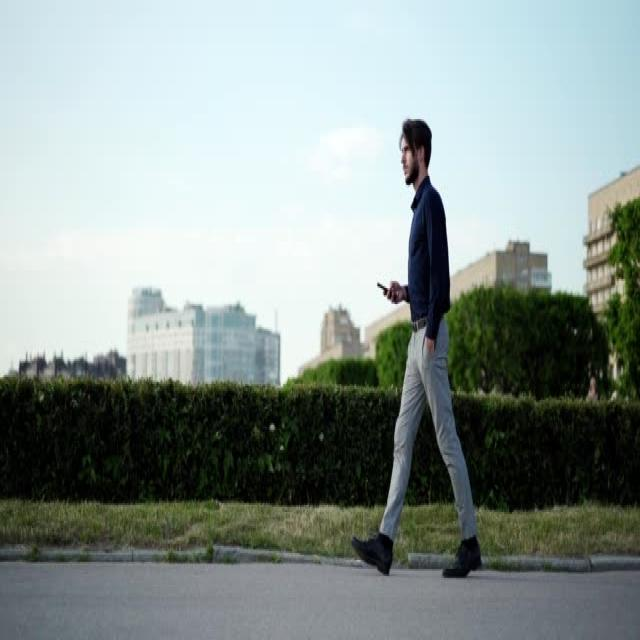Person: (351, 119, 482, 578)
